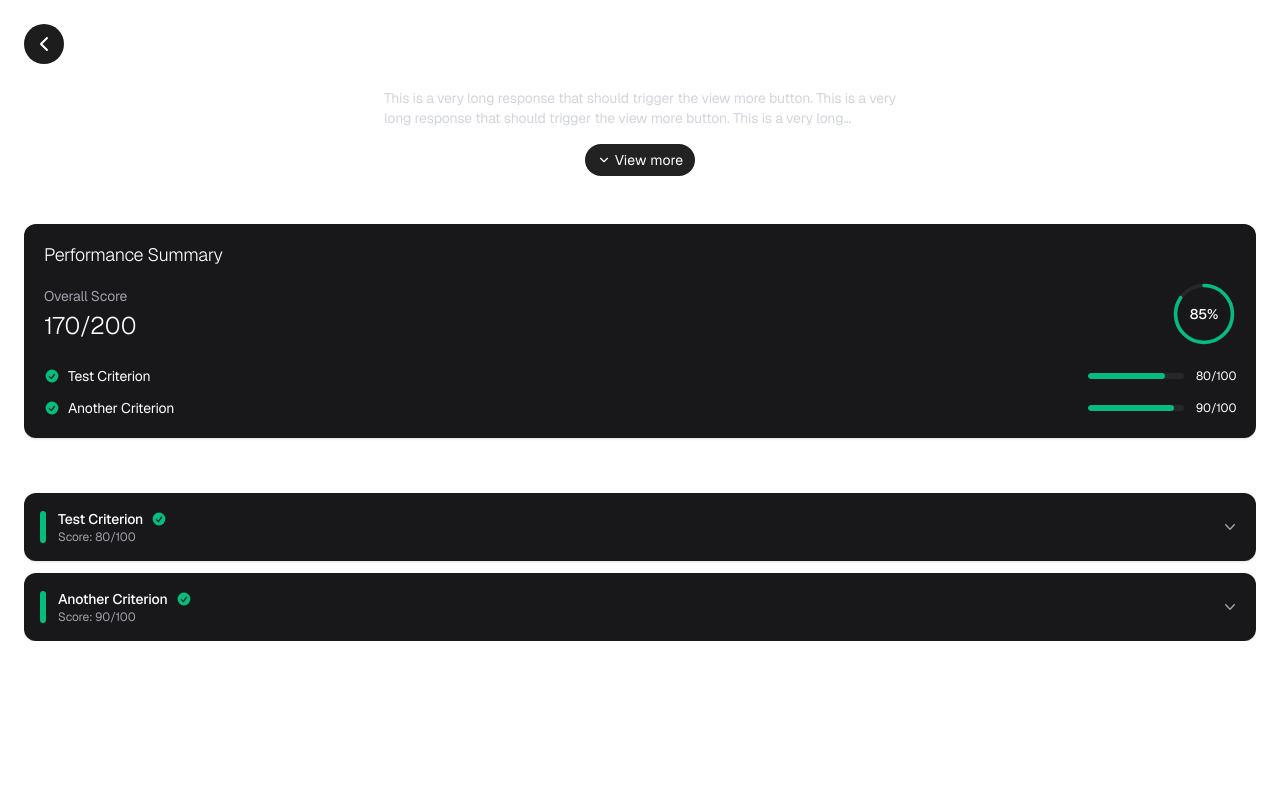
Test case: ScorecardView Component › should toggle text expansion when view more/less button is clicked
The width and height of the screenshot is (1280, 800).
# Click to expand
Click the button "View more" at (640, 160), box left=585, top=144, right=695, bottom=176
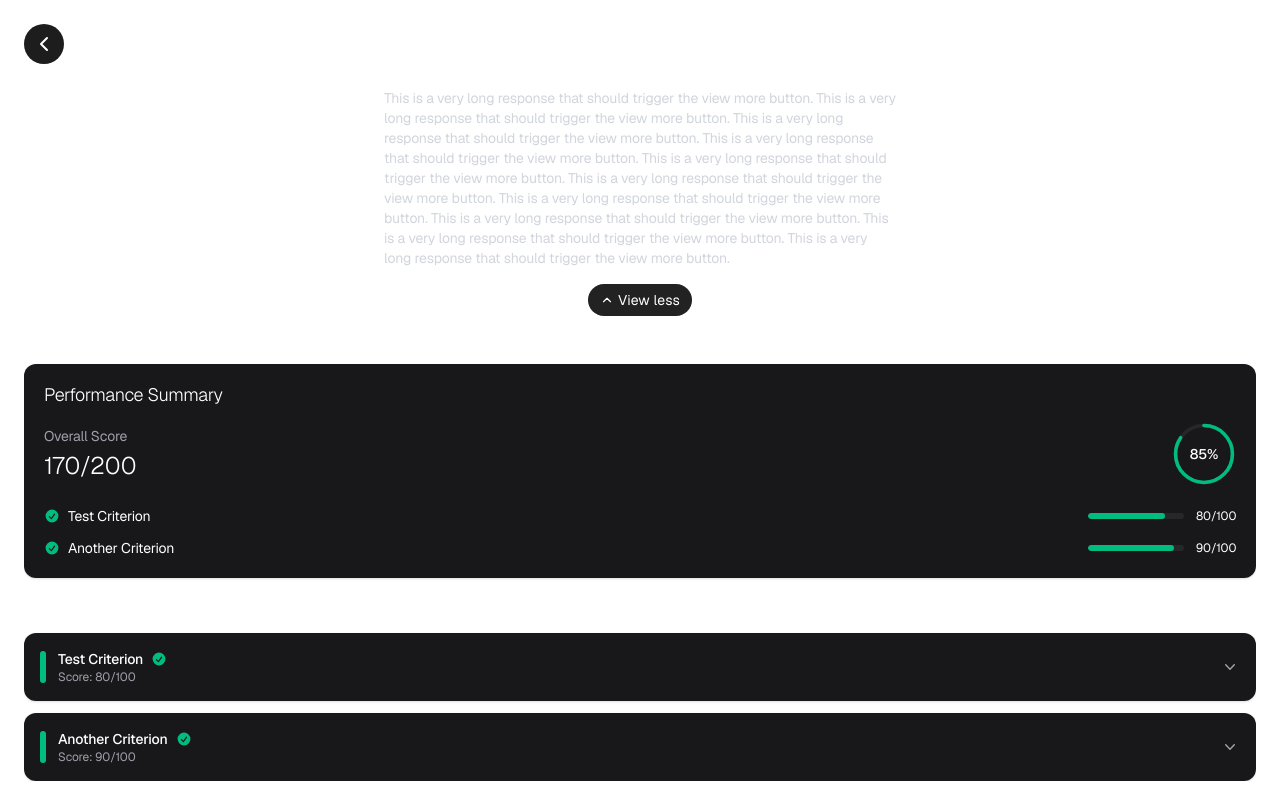
Result: the button "View less" is shown
# Click to collapse
Click the button "View less" at (640, 300), box left=588, top=284, right=692, bottom=316
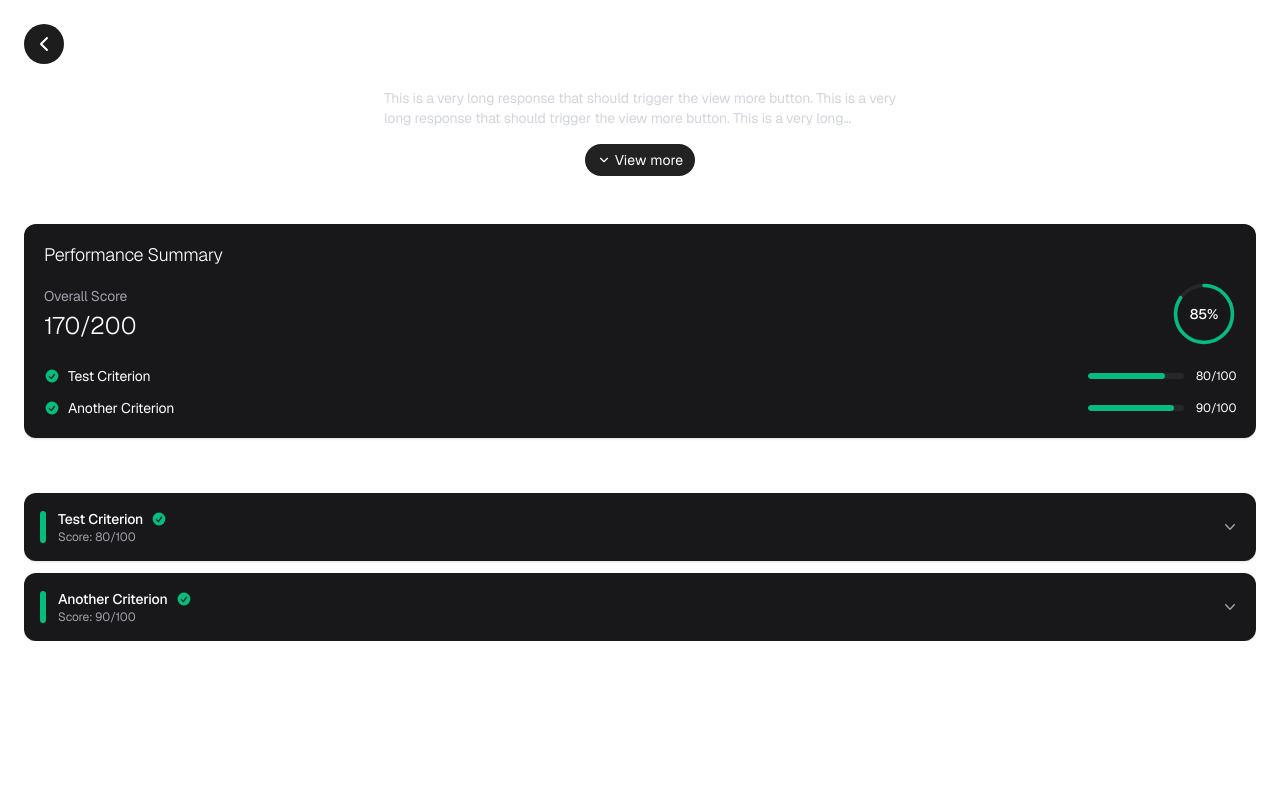
Result: the button "View more" is shown at left=585, top=144, right=695, bottom=176
